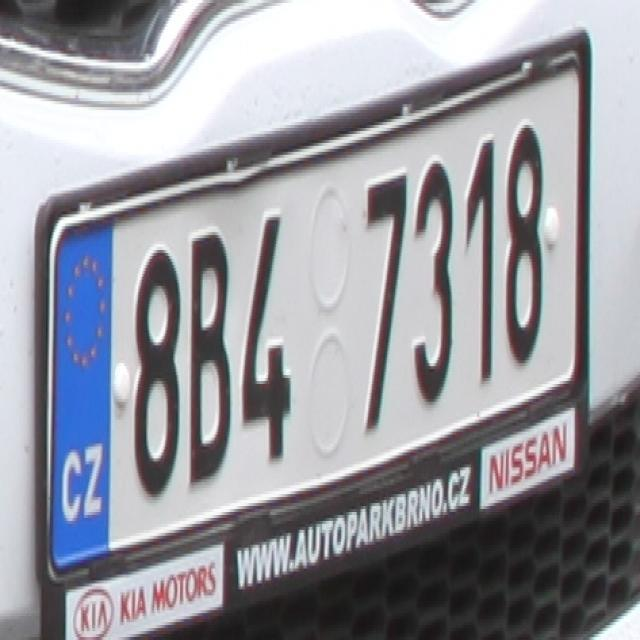1: (466, 137, 496, 384)
3: (414, 155, 453, 399)
4: (238, 212, 292, 468)
7: (361, 166, 409, 428)
8: (132, 250, 180, 500), (503, 119, 544, 357)
B: (187, 232, 234, 488)
